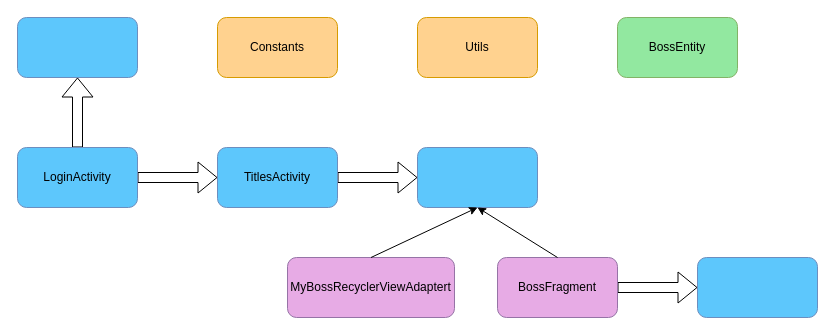
The diagram is 835 pixels wide and 335 high, and some of its shapes have lost their labels. The centre of each missing label's shape, as x and y in pixels:
AboutUsActivity: (x=77, y=47)
BossesListActivity: (x=477, y=177)
BossInfoActivity: (x=757, y=287)
